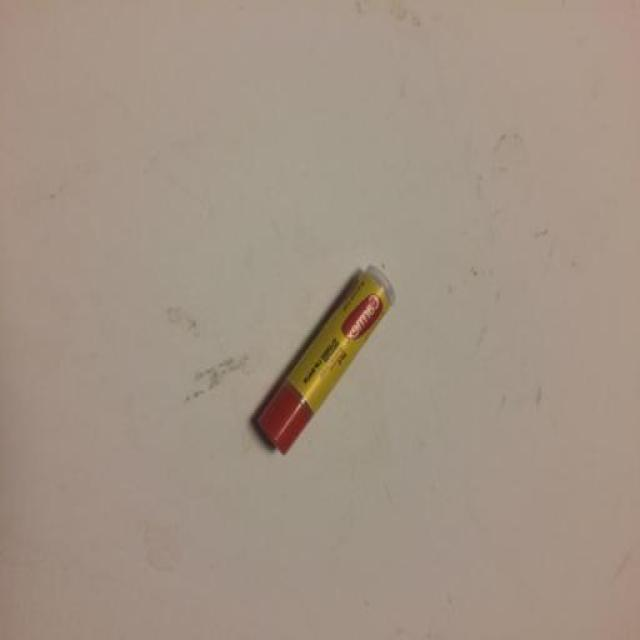Random Trash: (249, 268, 394, 458)
